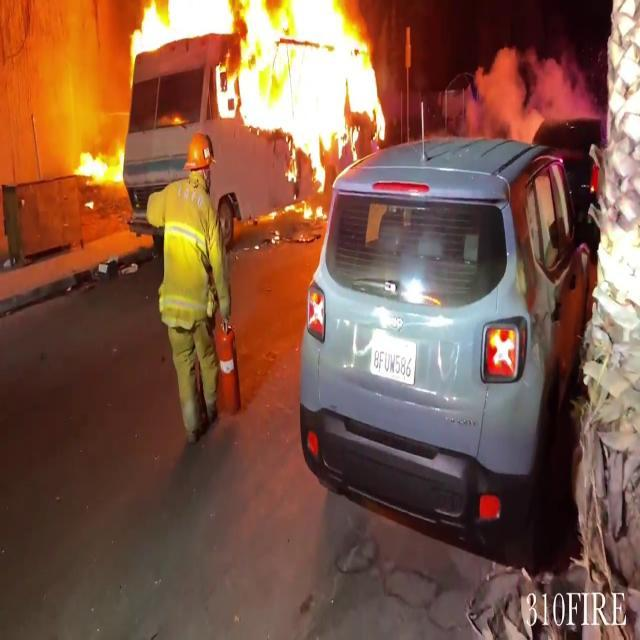Fire: (214, 0, 390, 185), (126, 0, 244, 69), (71, 134, 129, 191)
